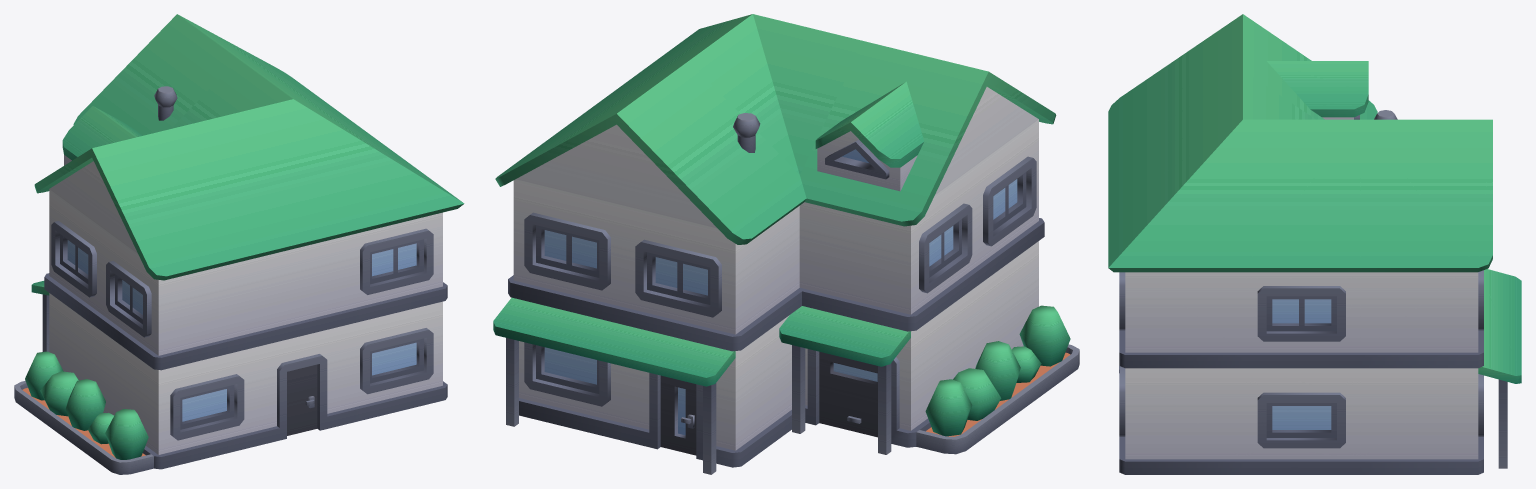
The model's file is building-type-f.glb.
The picture shows the model from 3 angles, left to right: view 1: azimuth 30°, elevation 25°; view 2: azimuth 150°, elevation 25°; view 3: azimuth 270°, elevation 25°; orthographic projection. The views are drawn at different scales.
Visible parts, largest first — view 1: building-type-f; view 2: building-type-f; view 3: building-type-f.
Boxes of the visible parts, x1,y1,x2,y2 form: building-type-f: [14, 14, 464, 474]; building-type-f: [493, 14, 1079, 474]; building-type-f: [1108, 14, 1521, 474].
Size of the model in its own units: 1.43 by 1.14 by 1.41.
Materials: 1 (1 with a texture image).
